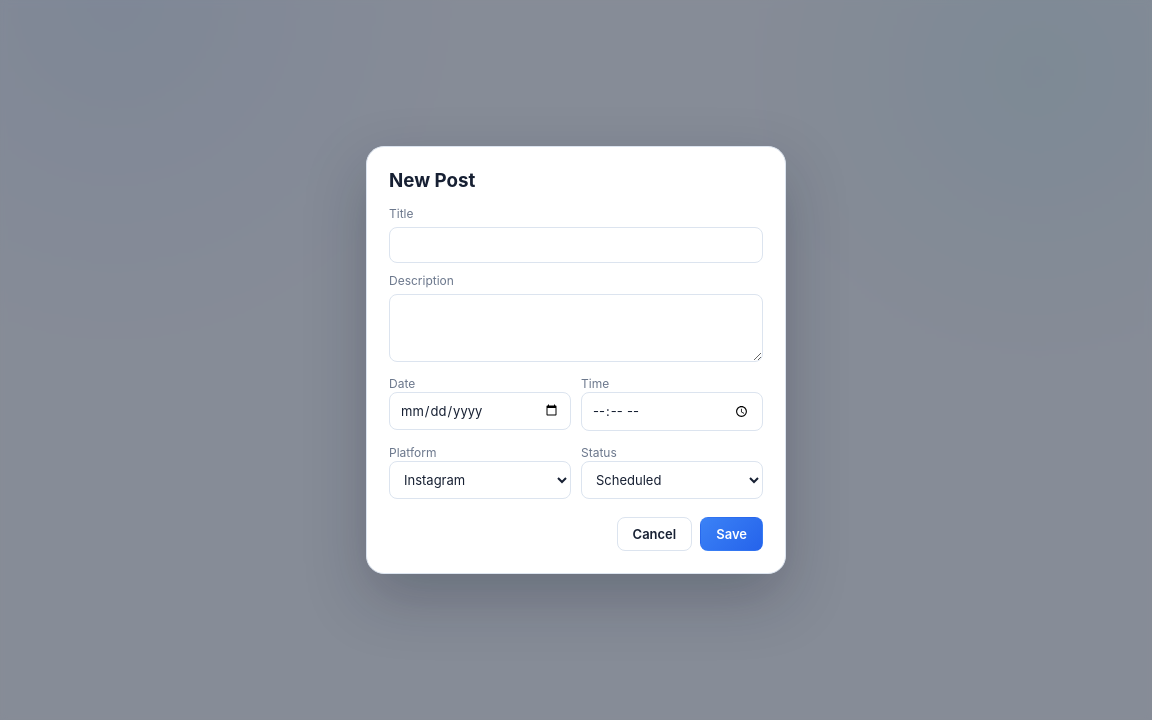
Scenario: Create post › blocks submission and shows an error when the title is empty
The image size is (1152, 720).
Type "2026-03-10" into the date field labelled "Date" at (480, 411), box [389,392,571,430]
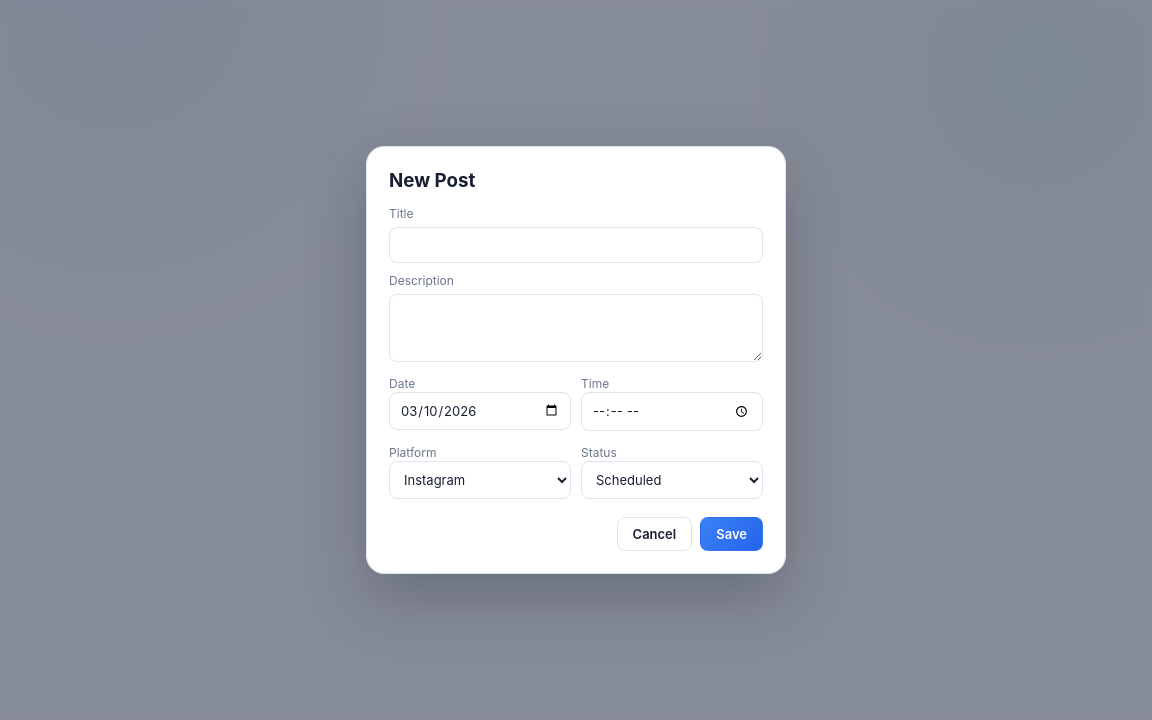
Type "11:00" into the time field labelled "Time" at (672, 412), box [581,392,763,431]
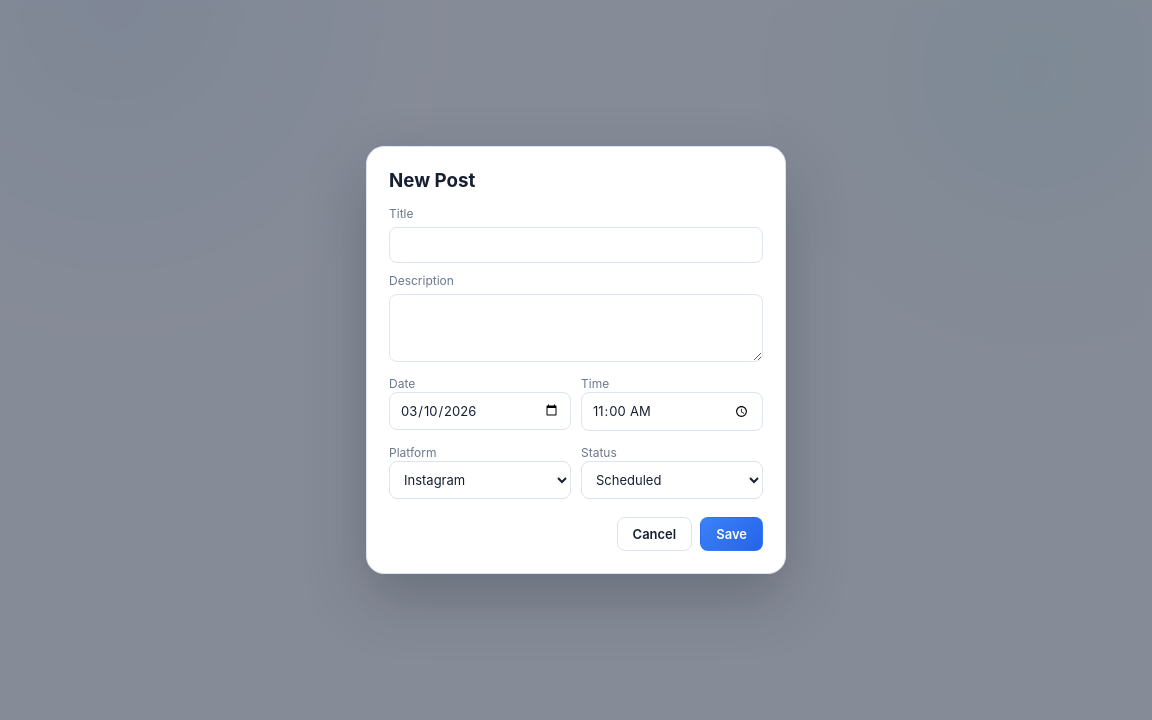
Click the button "Save" at (732, 534), box [700,517,763,551]
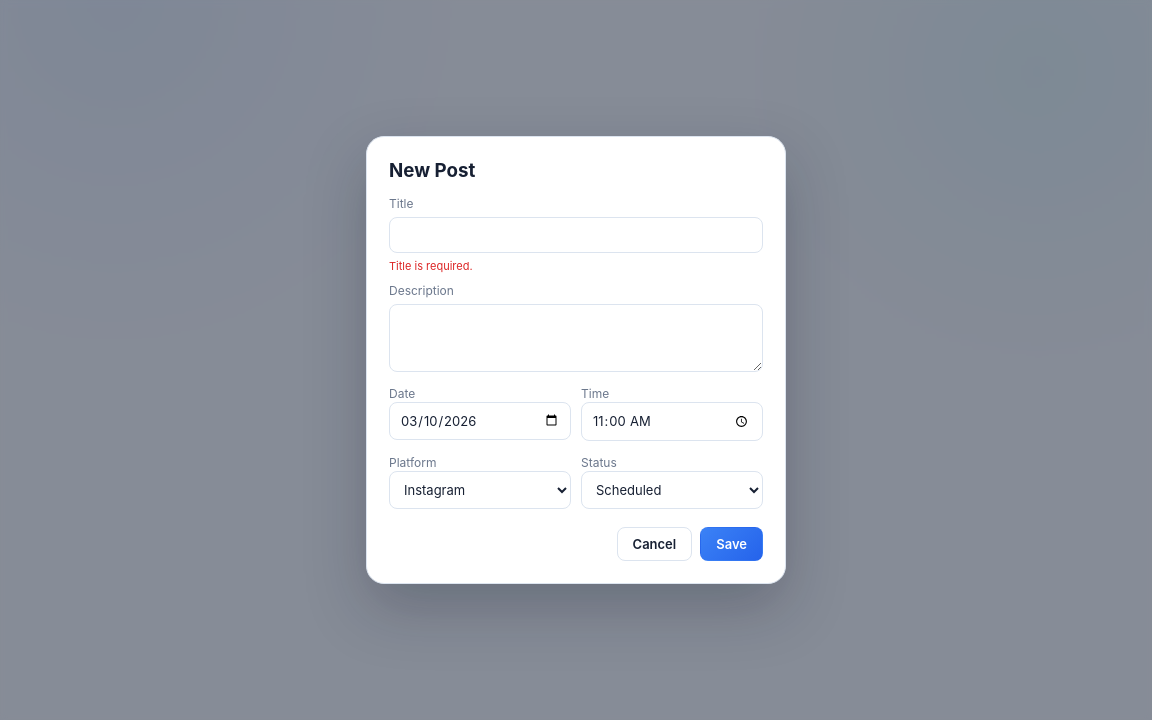
Check: the text "Title is required." is shown, box [389,259,473,273]
